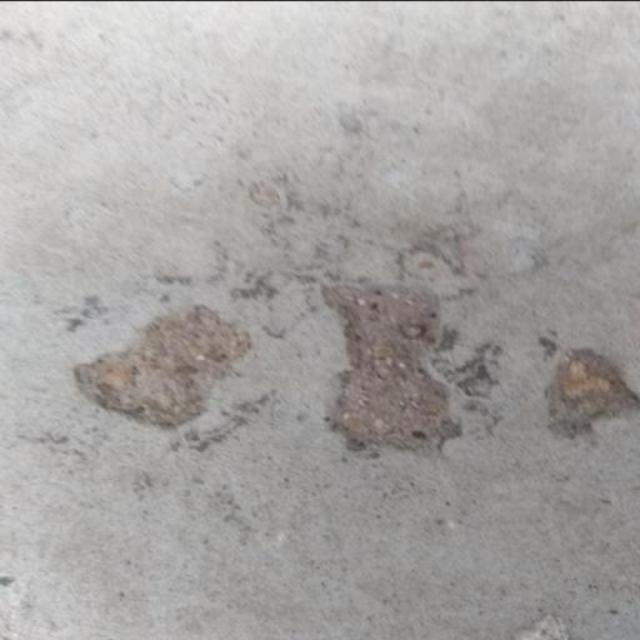D10: (322, 286, 465, 457), (74, 306, 251, 433), (546, 346, 639, 441)
